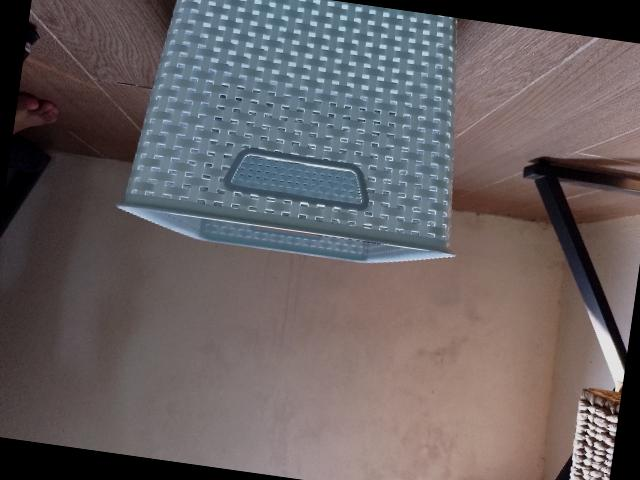cart: (117, 0, 456, 261)
